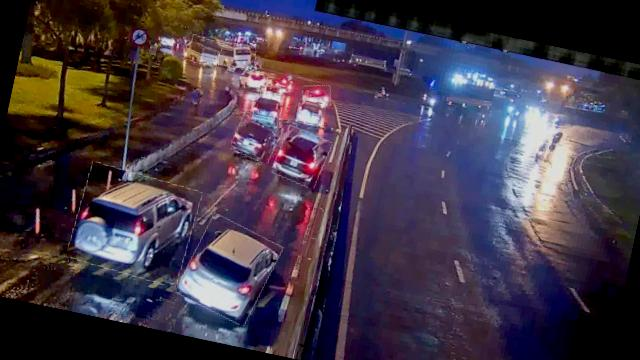Bike: (548, 130, 566, 153), (534, 140, 551, 164)
Bus: (216, 42, 258, 70)
Car: (66, 162, 202, 286), (177, 213, 282, 325), (272, 125, 332, 188), (230, 112, 283, 164), (250, 96, 282, 128), (300, 81, 333, 110), (295, 98, 324, 128), (238, 68, 269, 92)
Truck: (186, 34, 223, 68)
